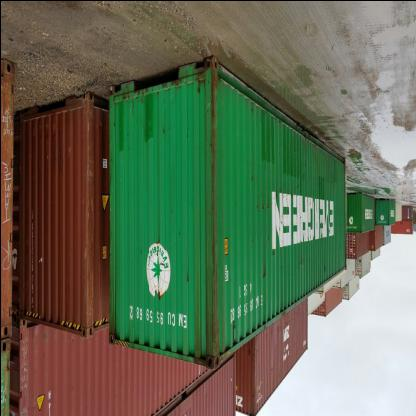Damage: (198, 252, 226, 366), (206, 64, 222, 194), (134, 90, 156, 154), (200, 206, 223, 249), (112, 99, 126, 162), (248, 195, 276, 217), (244, 91, 262, 124), (256, 258, 272, 290), (313, 170, 327, 206), (289, 244, 307, 270), (320, 258, 327, 280)
